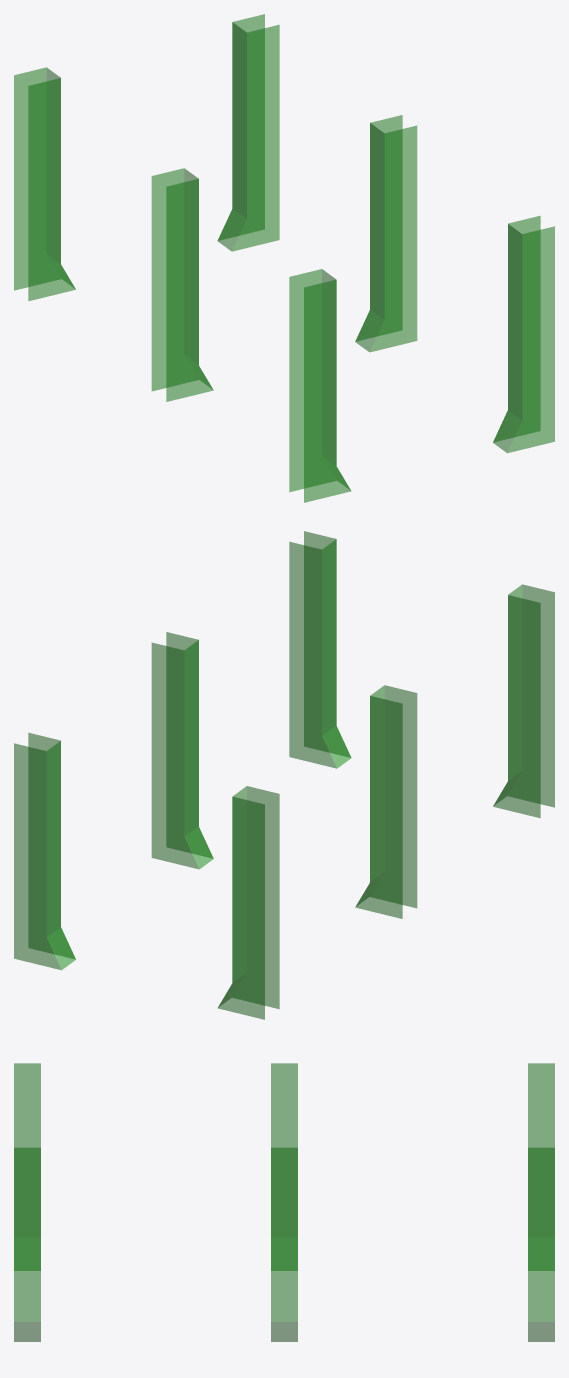
Rendered from D01_wall02.obj.
The picture shows the model from 3 angles, top to bottom: view 1: azimuth 30°, elevation 25°; view 2: azimuth 150°, elevation 25°; view 3: azimuth 270°, elevation 25°; orthographic projection. The views are drawn at different scales.
Size of the model in its own units: 10 by 8.2 by 20.
